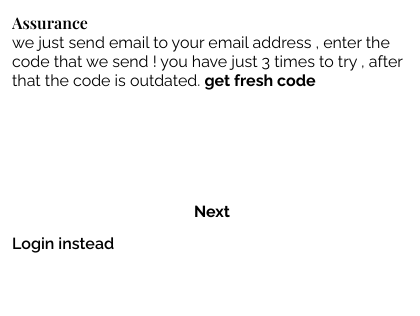
Test: Test Component : TfaForm › if timer reach 0 we can click on the get fresh and if server response ok we got new key.
Click the text with test id "tfaForm_getFreshCode": (260, 80) top-left (204, 71), bottom-right (316, 90)
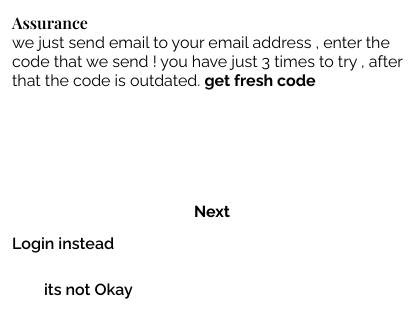
Check: the element with test id "errorMessage" reads "its not Okay", box top-left (44, 280), bottom-right (133, 299)
Click the text with test id "tfaForm_getFreshCode": (260, 80) top-left (204, 71), bottom-right (316, 90)
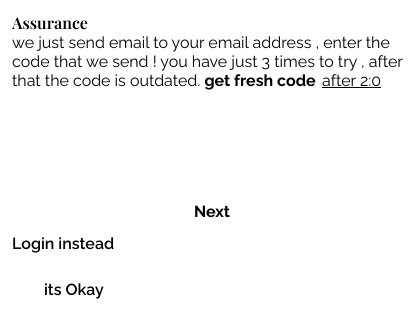
Check: the element with test id "successMessage" reads "its Okay", box top-left (44, 280), bottom-right (104, 299)
